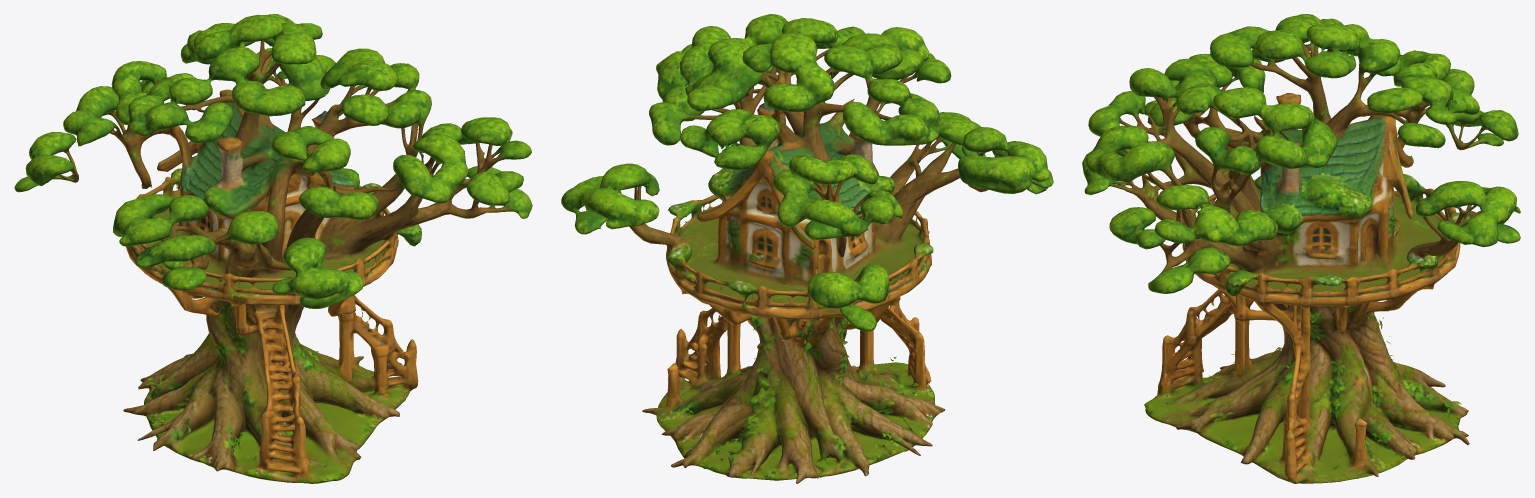
Rendered from treehouse.glb.
3 views of the same model, side by side, from view 1: azimuth 30°, elevation 25°; view 2: azimuth 150°, elevation 25°; view 3: azimuth 270°, elevation 25° (orthographic).
Visible parts, largest first — view 1: treehouse; view 2: treehouse; view 3: treehouse.
Part boxes in pixels (bbox=[...]): treehouse: bbox=[14, 14, 532, 483]; treehouse: bbox=[561, 14, 1053, 483]; treehouse: bbox=[1082, 14, 1520, 483].
Bounding box in the file's own units: 11.51 × 11 × 11.11.
Materials: 1 (1 with a texture image).
